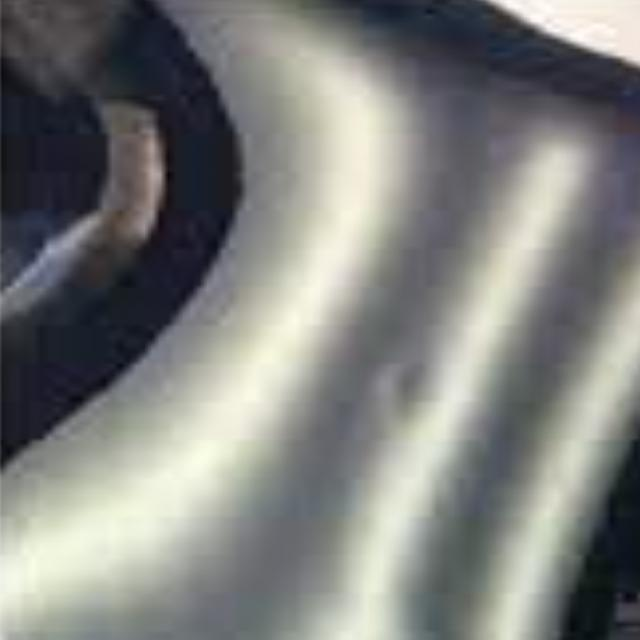dents: (316, 328, 490, 438)
